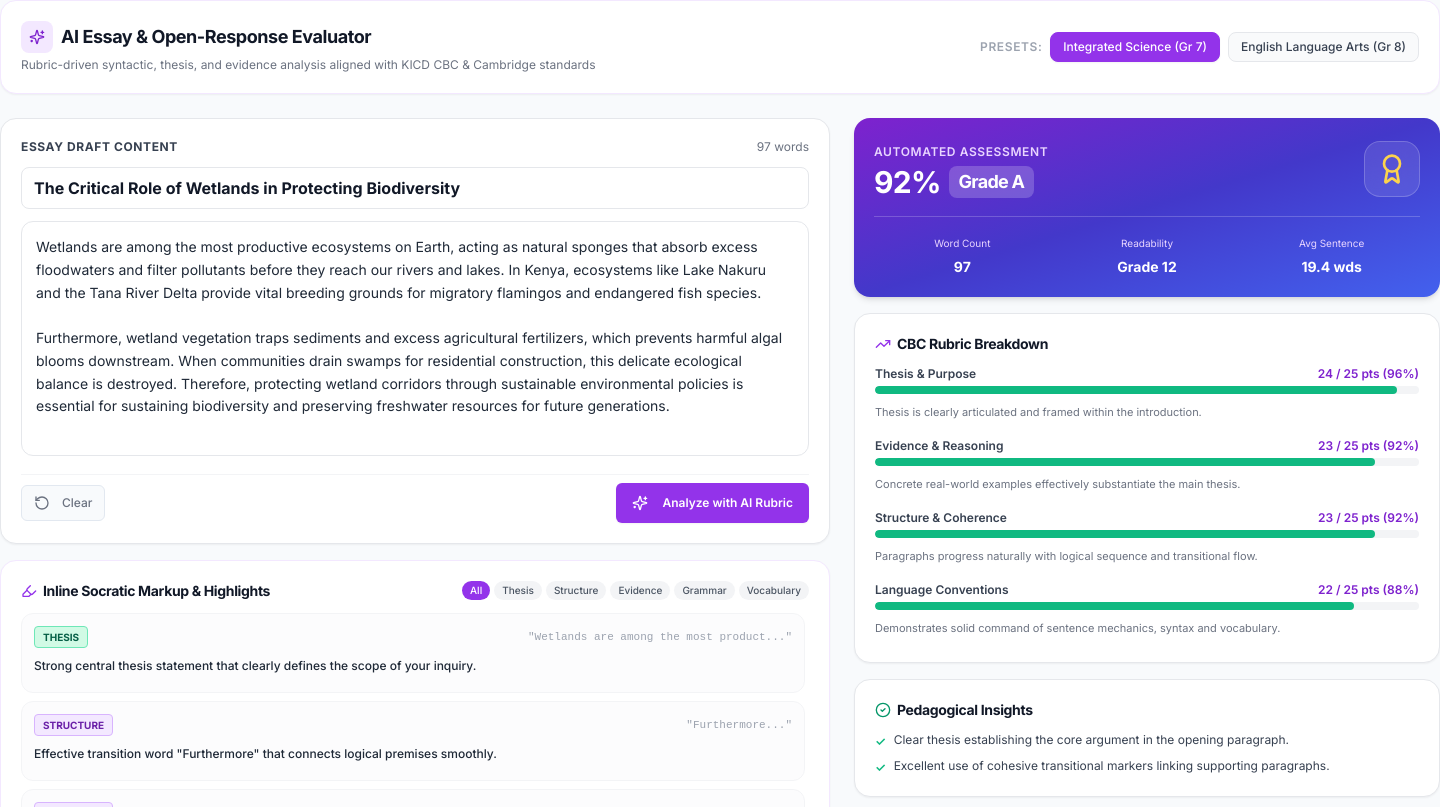
Test case: AIEssayFeedbackViewer Component › switches between sample essay presets
Click the button "English Language Arts (Gr 8)".
click(1324, 47)  # box [1228, 32, 1419, 62]
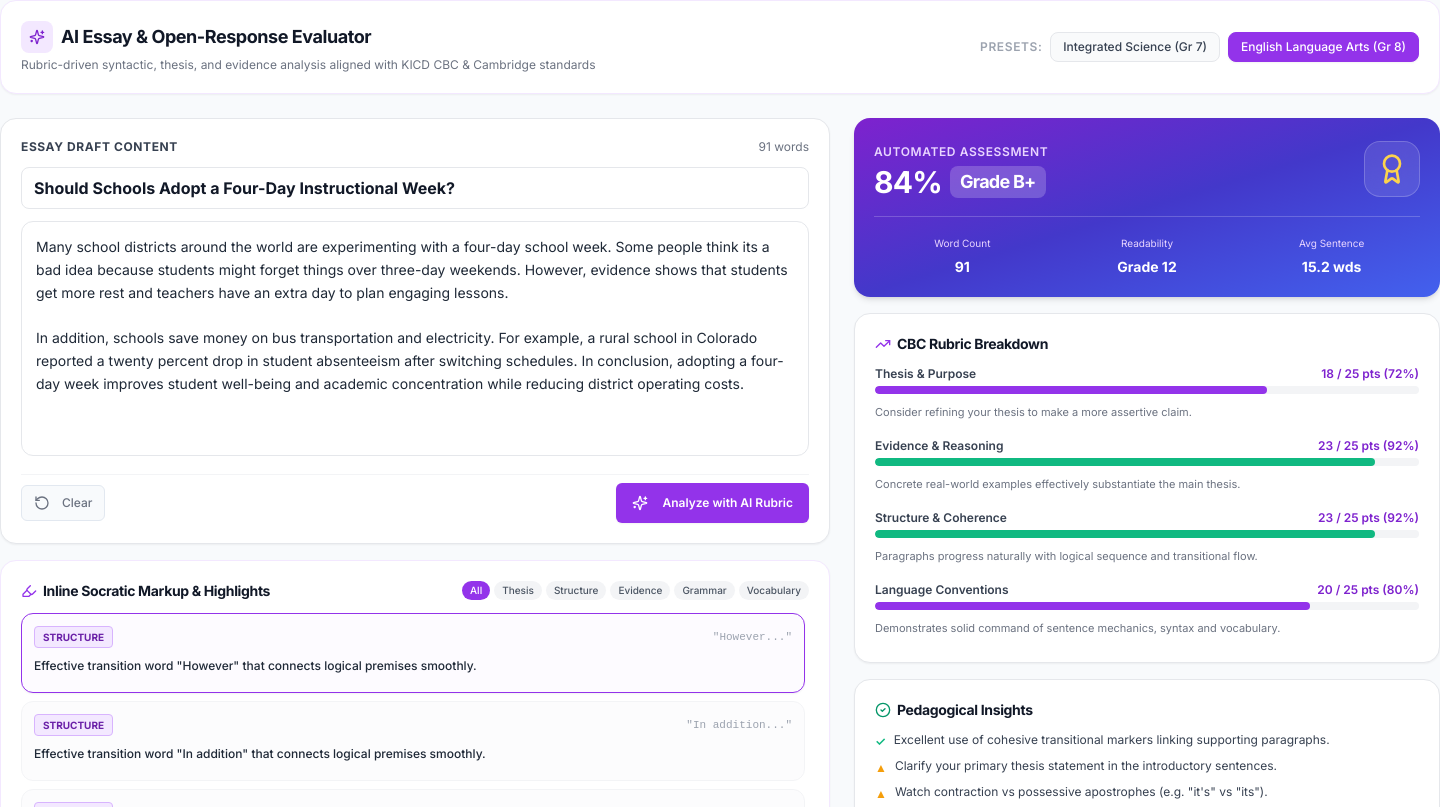
Check: the field showing "Four-Day Instructional Week" is shown, box [21, 167, 809, 209]
